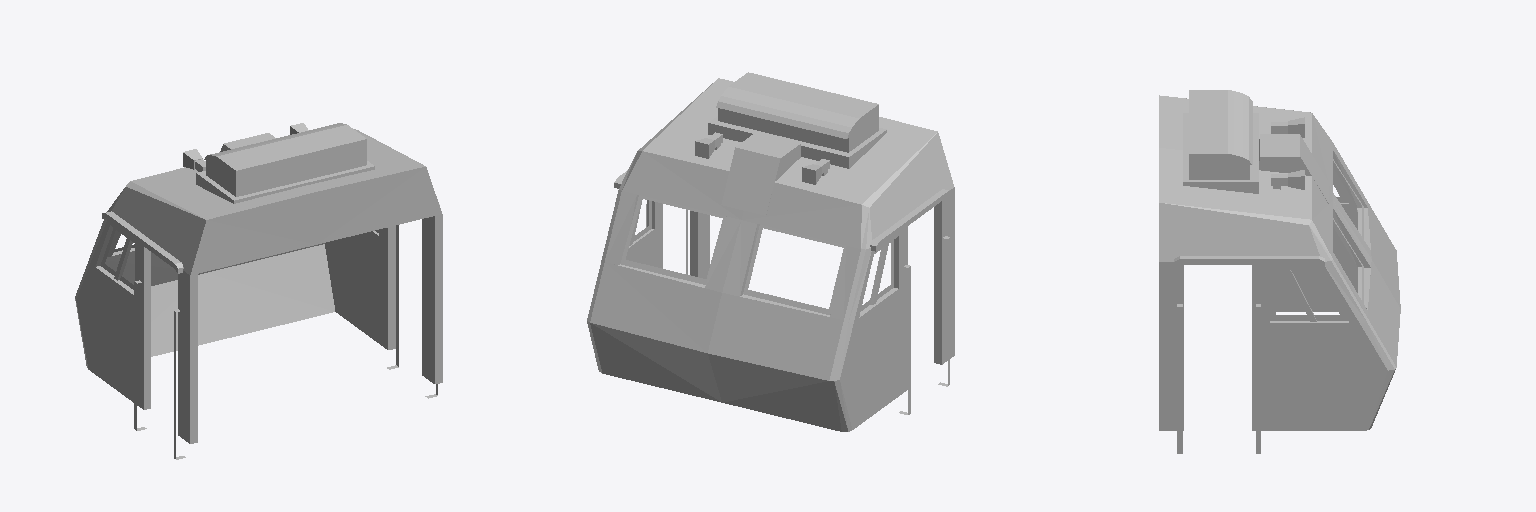
File: ss8_head_early.obj
3 views of the same model, side by side, from view 1: azimuth 30°, elevation 25°; view 2: azimuth 150°, elevation 25°; view 3: azimuth 270°, elevation 25° (orthographic).
Visible parts, largest first — view 1: cube_selection; view 2: cube_selection; view 3: cube_selection.
Part boxes in pixels (bbox=[...]): cube_selection: bbox=[75, 123, 442, 459]; cube_selection: bbox=[587, 72, 954, 431]; cube_selection: bbox=[1159, 90, 1400, 453].
Size of the model in its own units: 3.25 by 3.19 by 2.6.